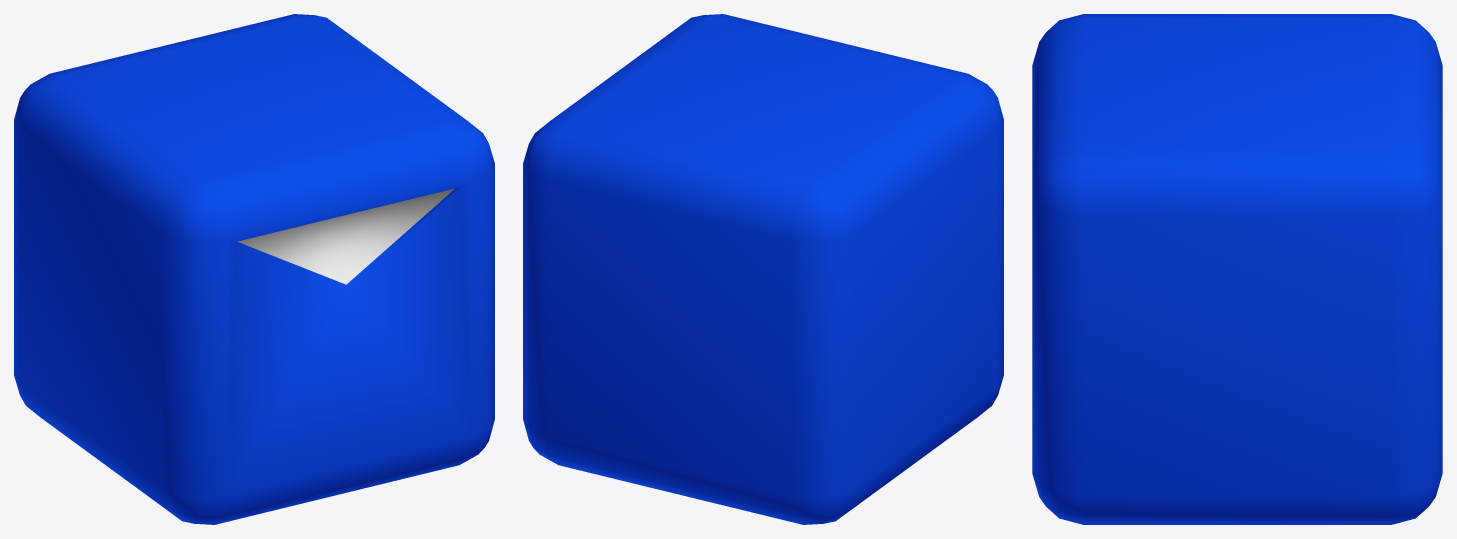
File: BeatSaberBox.fbx
The picture shows the model from 3 angles, left to right: view 1: azimuth 30°, elevation 25°; view 2: azimuth 150°, elevation 25°; view 3: azimuth 270°, elevation 25°; orthographic projection. The views are drawn at different scales.
Parts seen in each view (by area): view 1: Cube; view 2: Cube; view 3: Cube.
Part boxes in pixels (bbox=[...]): Cube: bbox=[14, 14, 494, 524]; Cube: bbox=[523, 14, 1003, 524]; Cube: bbox=[1032, 14, 1442, 524].
Size of the model in its own units: 200 by 200 by 200.
